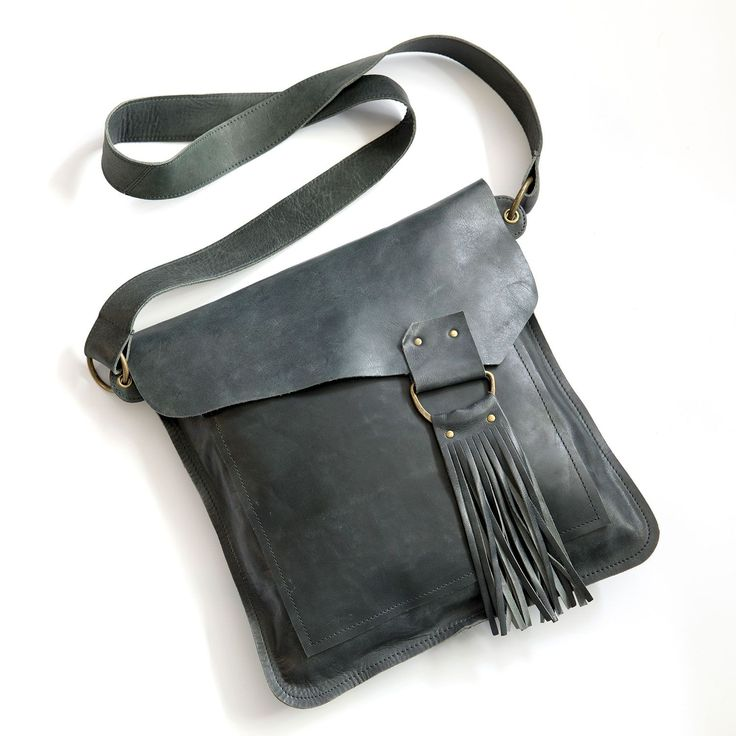cuero: (83, 36, 660, 707)
